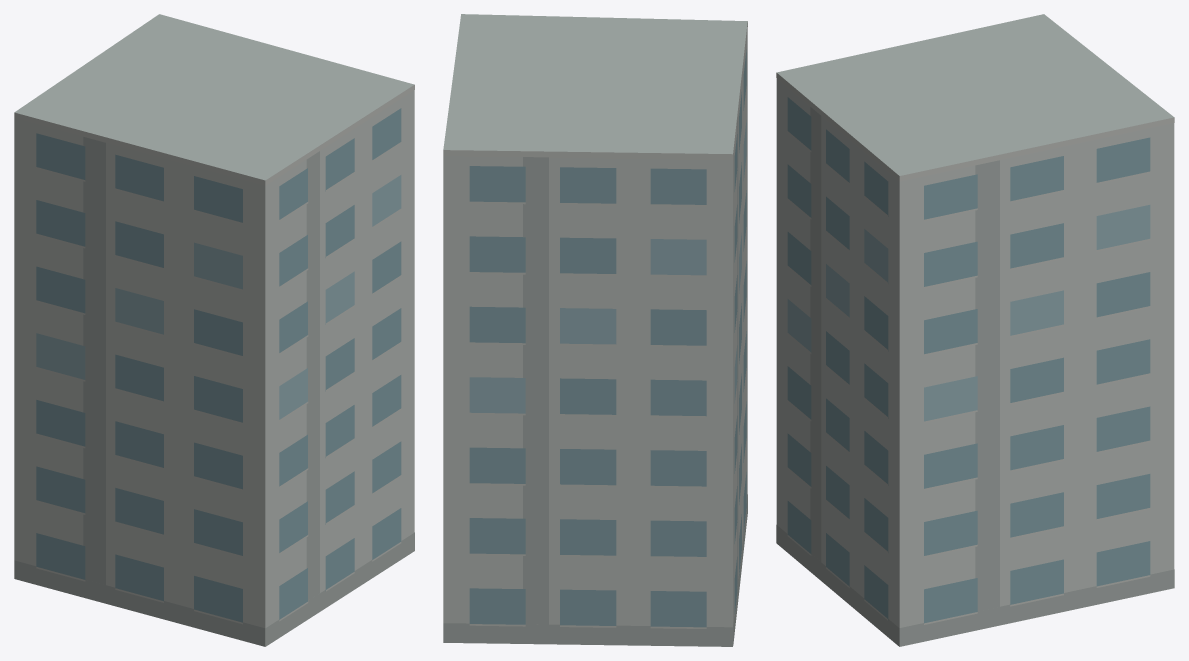
Rendered from survey-upis-32884240.glb.
3 views of the same model, side by side, from view 1: azimuth 30°, elevation 25°; view 2: azimuth 150°, elevation 25°; view 3: azimuth 270°, elevation 25° (orthographic). The views are drawn at different scales.
Parts seen in each view (by area): view 1: survey-upis-32884240.tmp; view 2: survey-upis-32884240.tmp; view 3: survey-upis-32884240.tmp.
Part boxes in pixels (x1,y1,x2,y2): survey-upis-32884240.tmp: (14,14,414,646); survey-upis-32884240.tmp: (443,14,747,646); survey-upis-32884240.tmp: (776,14,1174,646).
Size of the model in its own units: 15.19 by 20.57 by 15.76.
